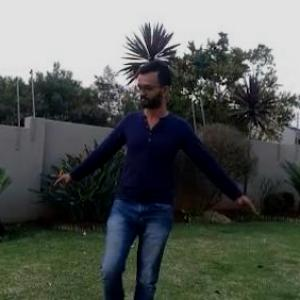land: (68, 55, 212, 297)
